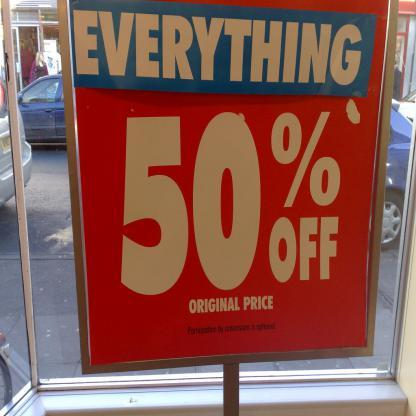car: (371, 104, 413, 250), (0, 72, 35, 202), (17, 74, 72, 148)
